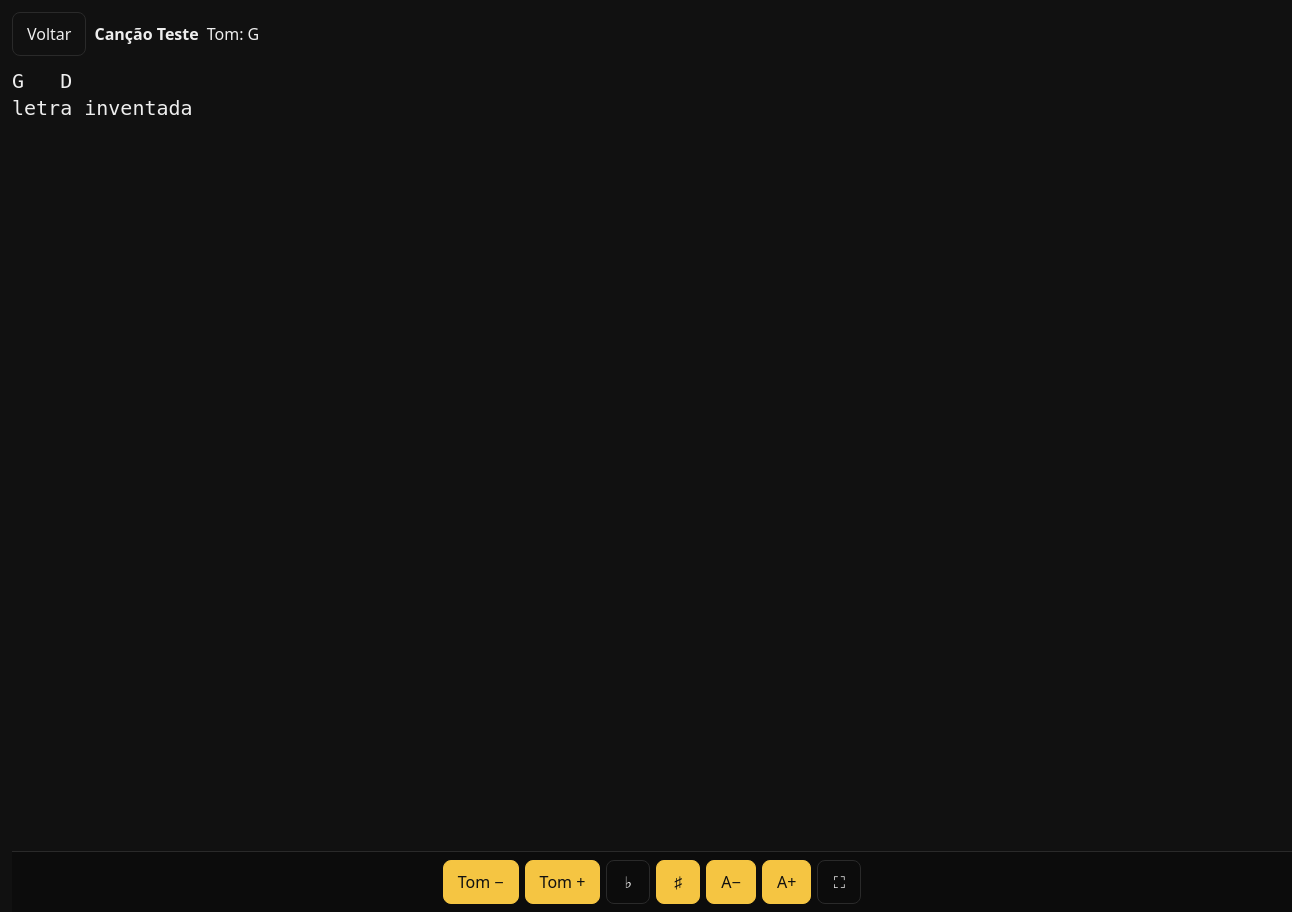
Scenario: SongView › bemol troca a grafia e persiste a preferência
expect the text named "Cifra" is shown: met, box [12,69,193,120]
Click the button with aria-label "Subir tom": (562, 882) [525,860,600,904]
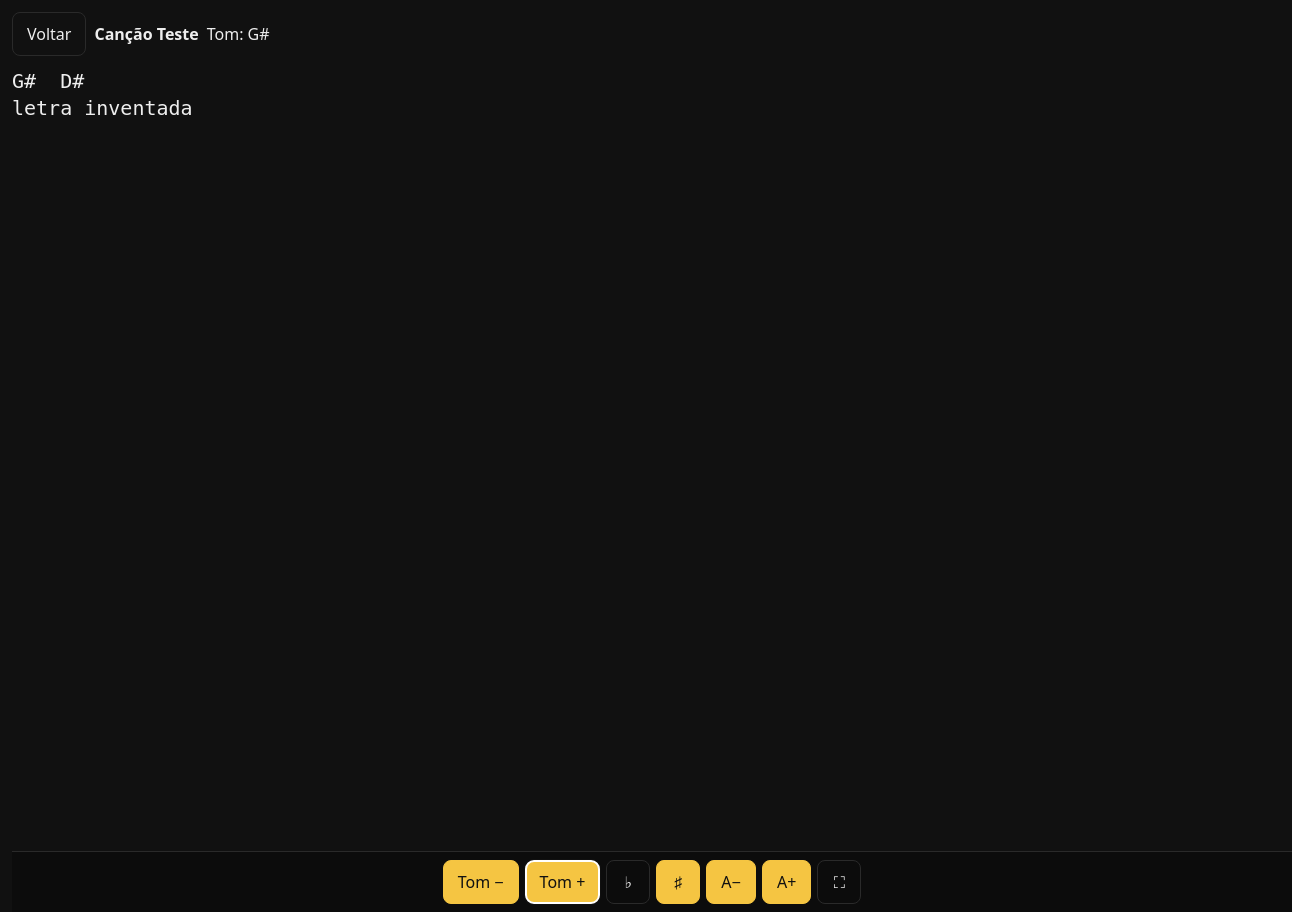
Click the button named "Bemol": (628, 882) [606,860,650,904]
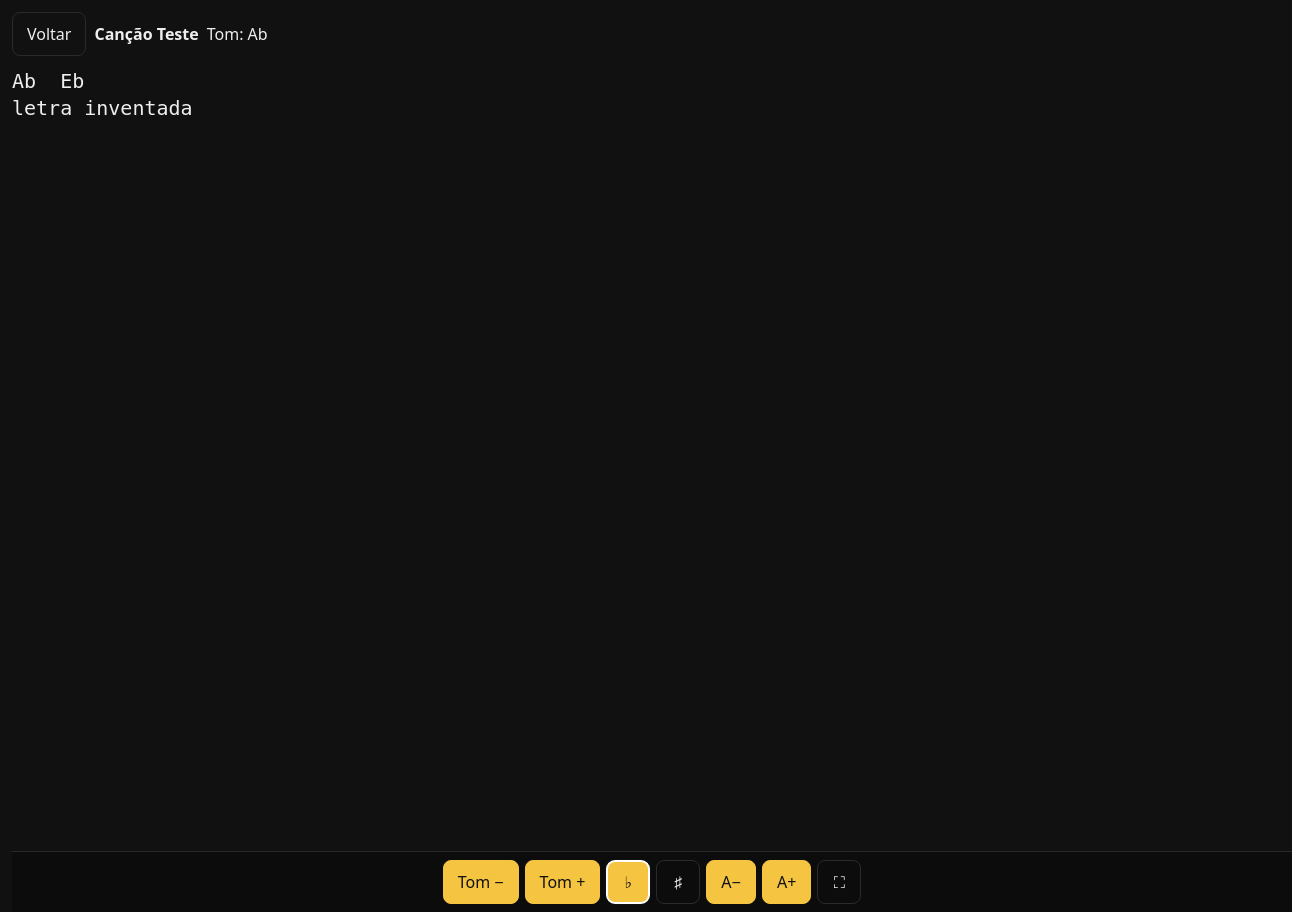
expect the text named "Cifra" shows "Ab Eb": met, box [12,69,193,120]
